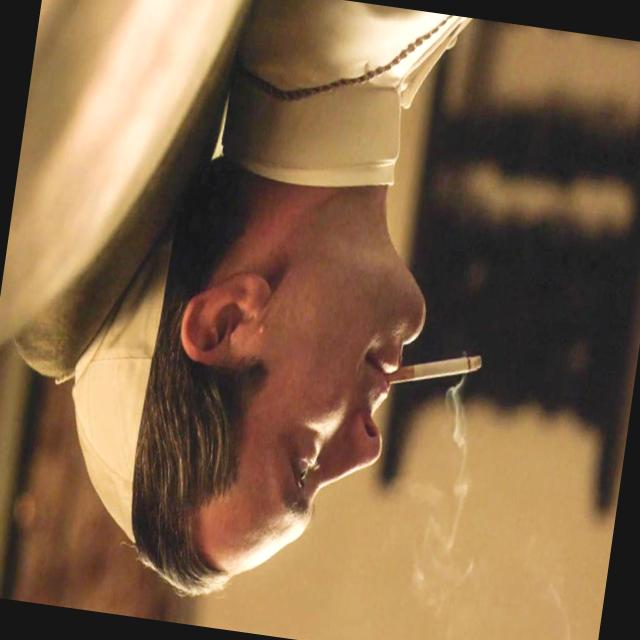cigarette: (375, 328, 489, 418)
